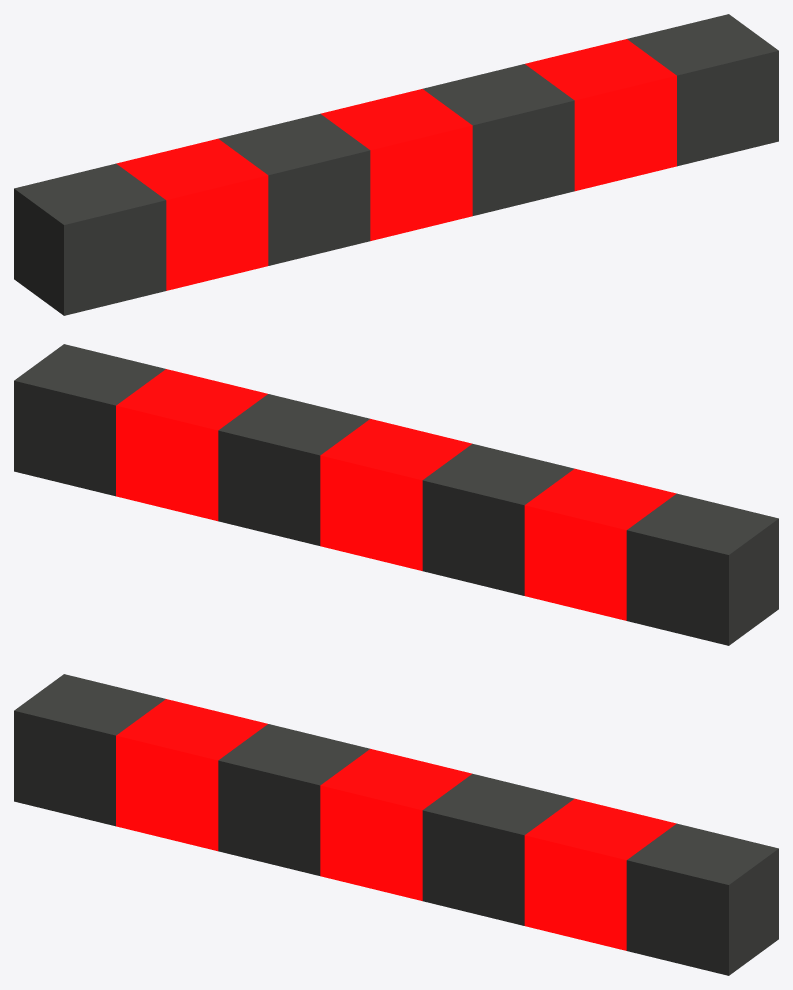
Rendered from cable.glb.
3 views of the same model, one above another, from view 1: azimuth 30°, elevation 25°; view 2: azimuth 150°, elevation 25°; view 3: azimuth 330°, elevation 25° (orthographic).
Visible parts, largest first — view 1: Cube.001; view 2: Cube.001; view 3: Cube.001.
Boxes of the visible parts, x1,y1,x2,y2 form: Cube.001: (14, 14, 778, 315); Cube.001: (14, 344, 778, 645); Cube.001: (14, 674, 778, 975).
Size of the model in its own units: 1 by 0.1214 by 0.1214.
